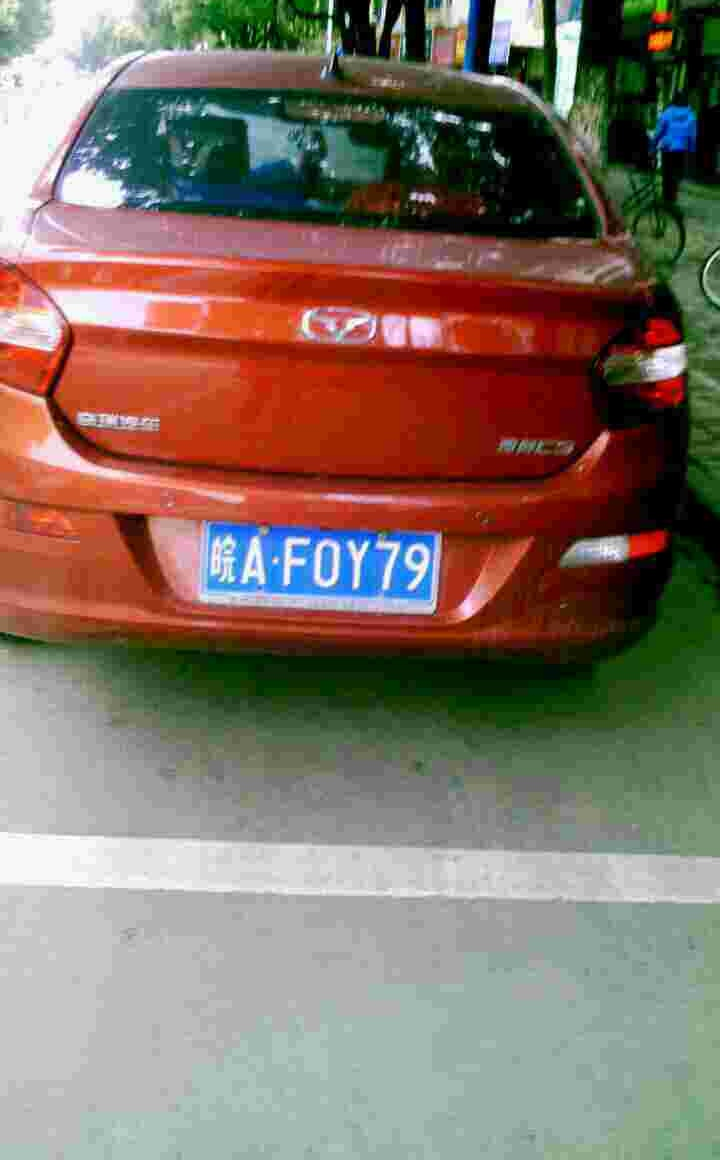license_plate: (209, 524, 429, 606)
